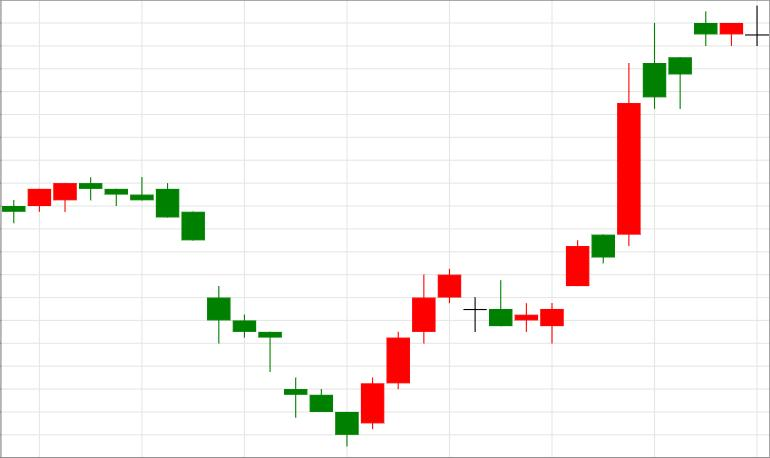shooting_star_fall: (514, 22, 667, 343)
three_white_soldiers_rise: (79, 176, 436, 447)
